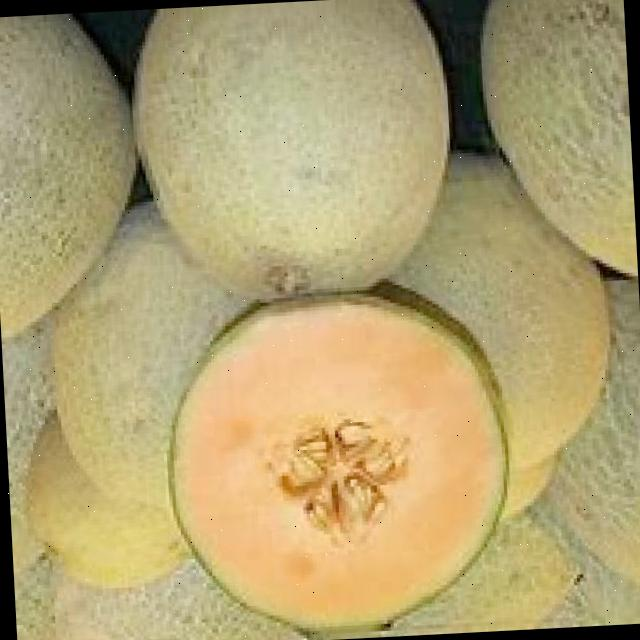Hami Melon: (156, 287, 514, 638), (128, 0, 460, 298), (0, 9, 142, 345), (477, 0, 638, 281)
